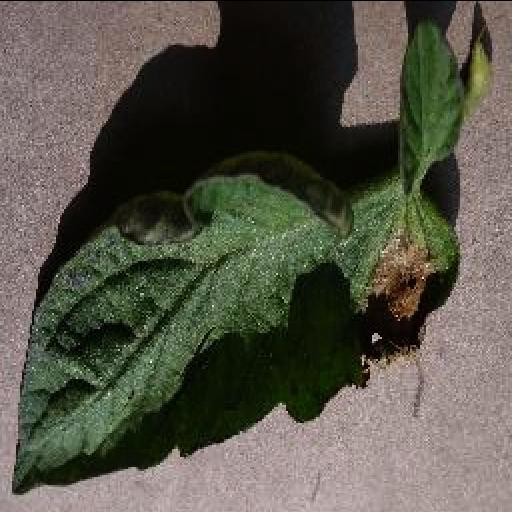disease_tomato: (10, 149, 478, 499)
